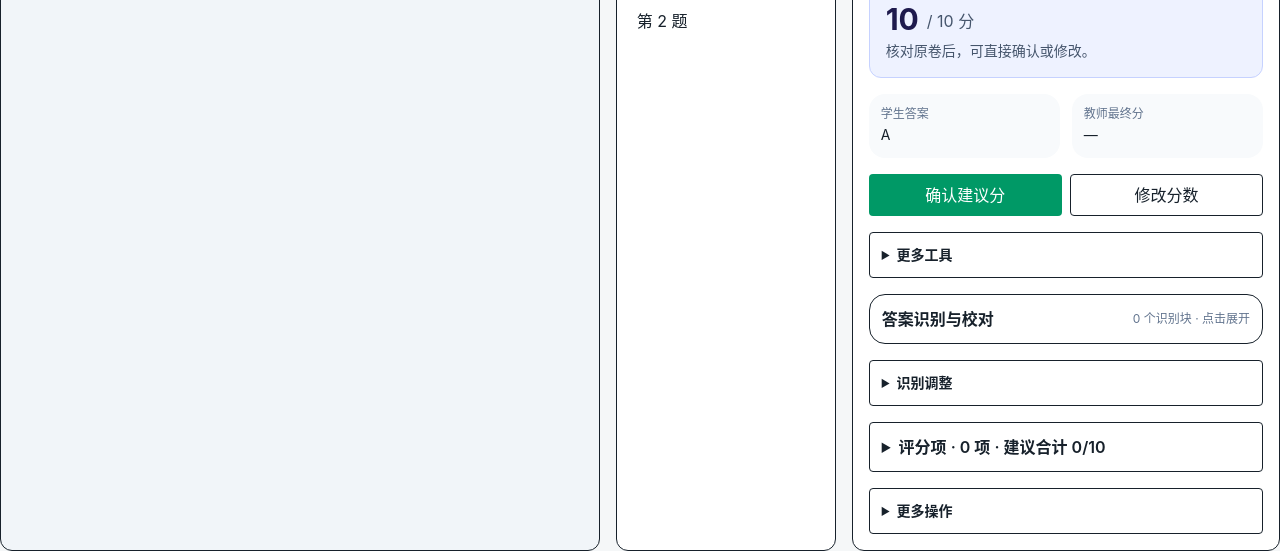
Scenario: shows the next confirmation immediately when readiness refresh fails
This screenshot has width=1280, height=551.
(page scrolled)
What coordinates should you click on to do the following:
click the button "确认建议分"
I would click on:
 (965, 195)
Its box is 869,174 -> 1062,216.
(page scrolled)
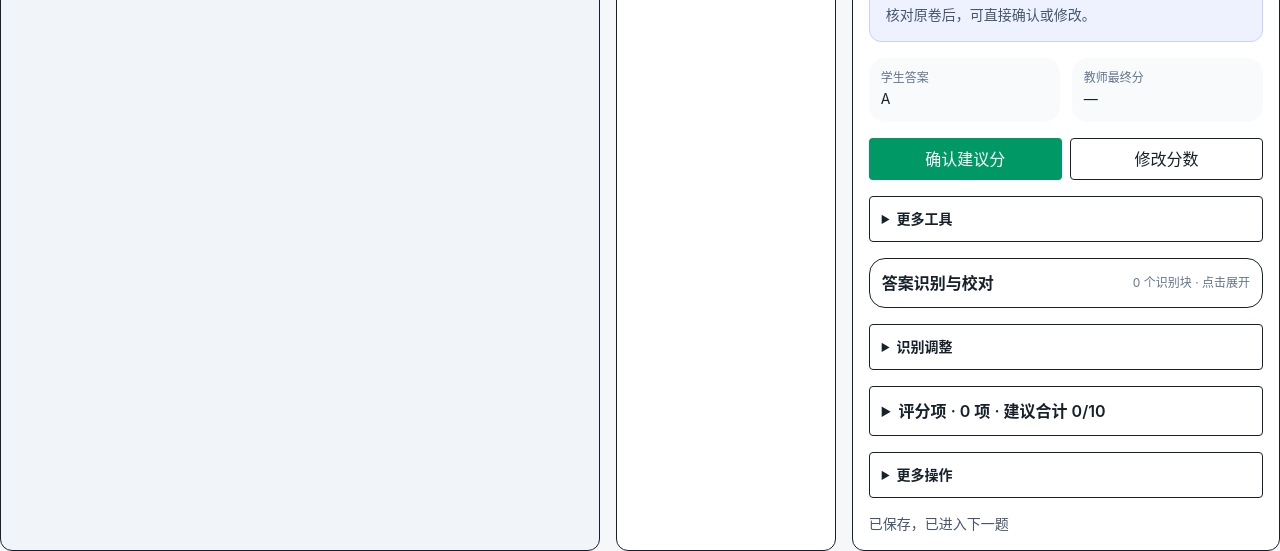
Expected: the button "确认建议分" is shown, 869,138 -> 1062,180
Expected: the message reads "已保存，已进入下一题", 869,515 -> 1009,532
